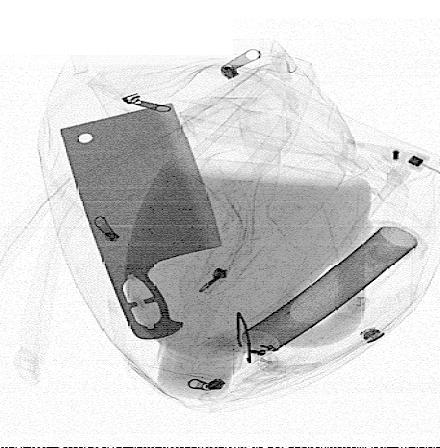Knife: (58, 103, 224, 340)
